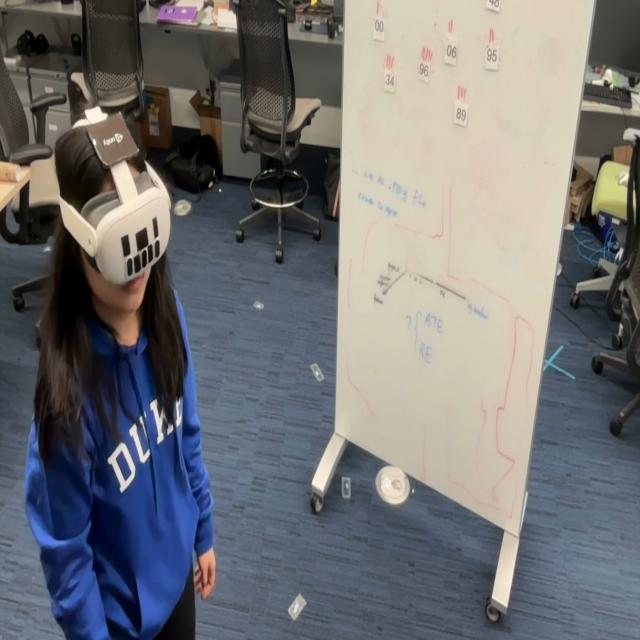UnityLogo: (85, 108, 140, 170)
